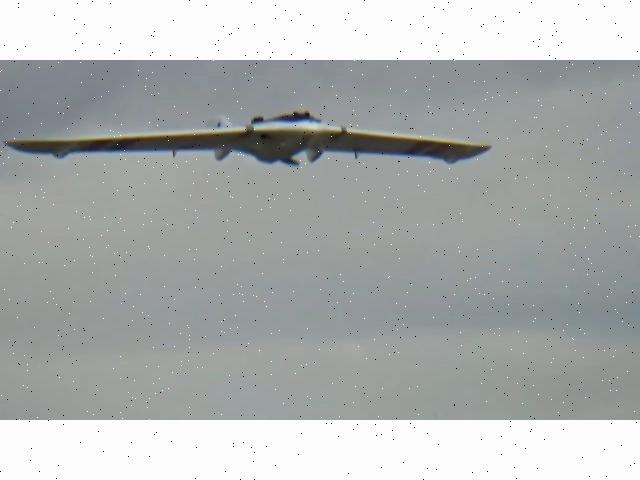Anti-Drone: (2, 107, 492, 169)
